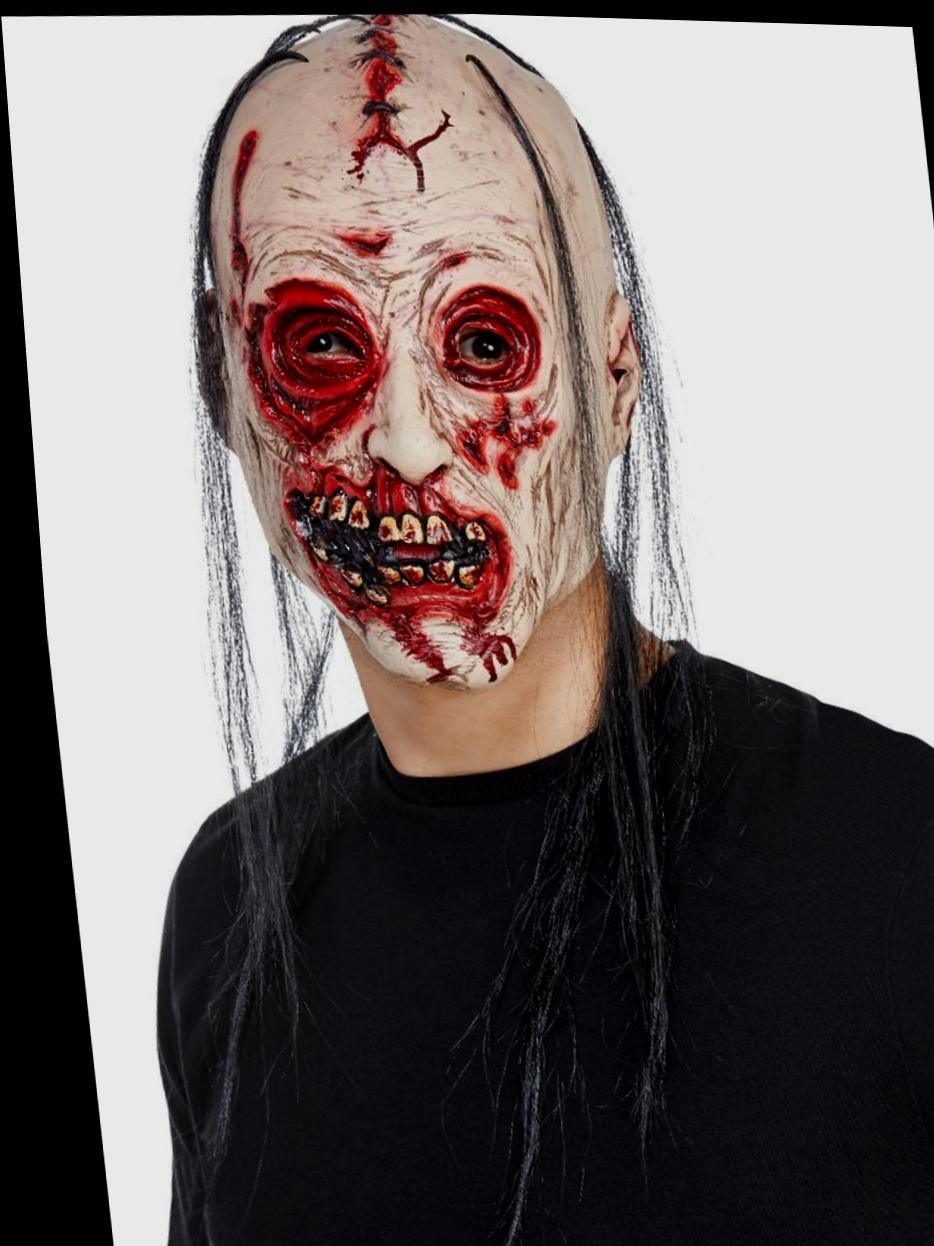Fire: (239, 276, 509, 684), (345, 11, 448, 188), (441, 389, 550, 485), (436, 283, 534, 387), (226, 126, 255, 297), (331, 224, 388, 253), (435, 247, 465, 266)
